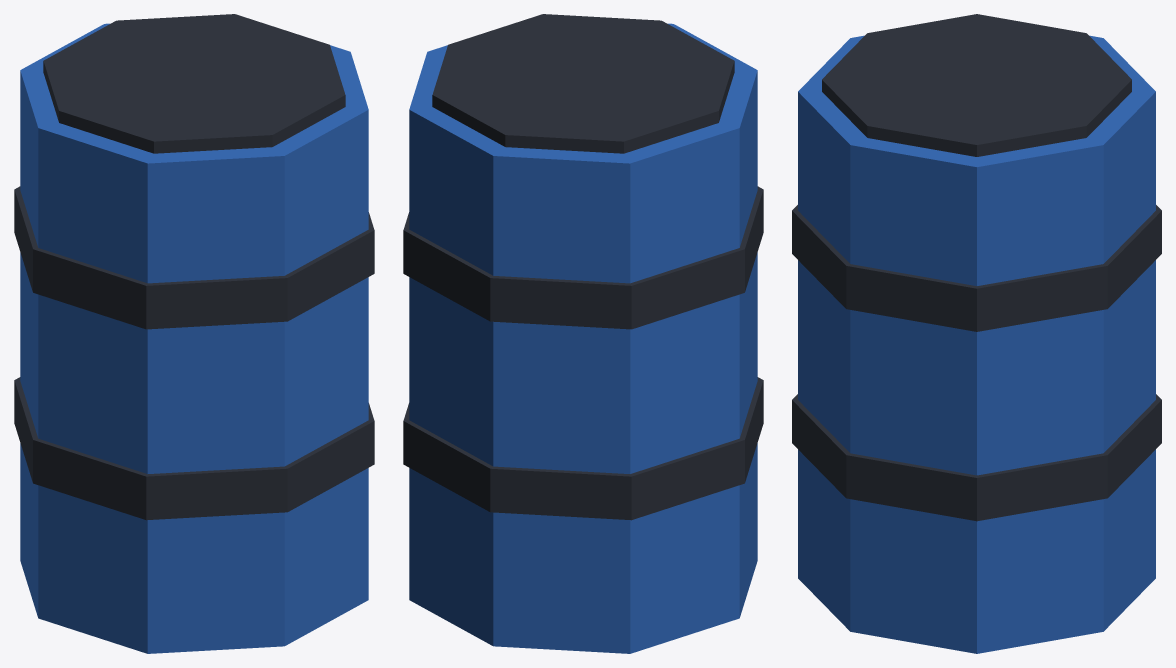
The model's file is barrel.glb.
3 views of the same model, side by side, from view 1: azimuth 30°, elevation 25°; view 2: azimuth 150°, elevation 25°; view 3: azimuth 270°, elevation 25° (orthographic).
Parts seen in each view (by area): view 1: barrel; view 2: barrel; view 3: barrel.
Boxes of the visible parts, x1,y1,x2,y2 form: barrel: [14, 14, 374, 653]; barrel: [403, 14, 763, 653]; barrel: [792, 14, 1161, 653].
Size of the model in its own units: 0.837 by 1.25 by 0.837.
